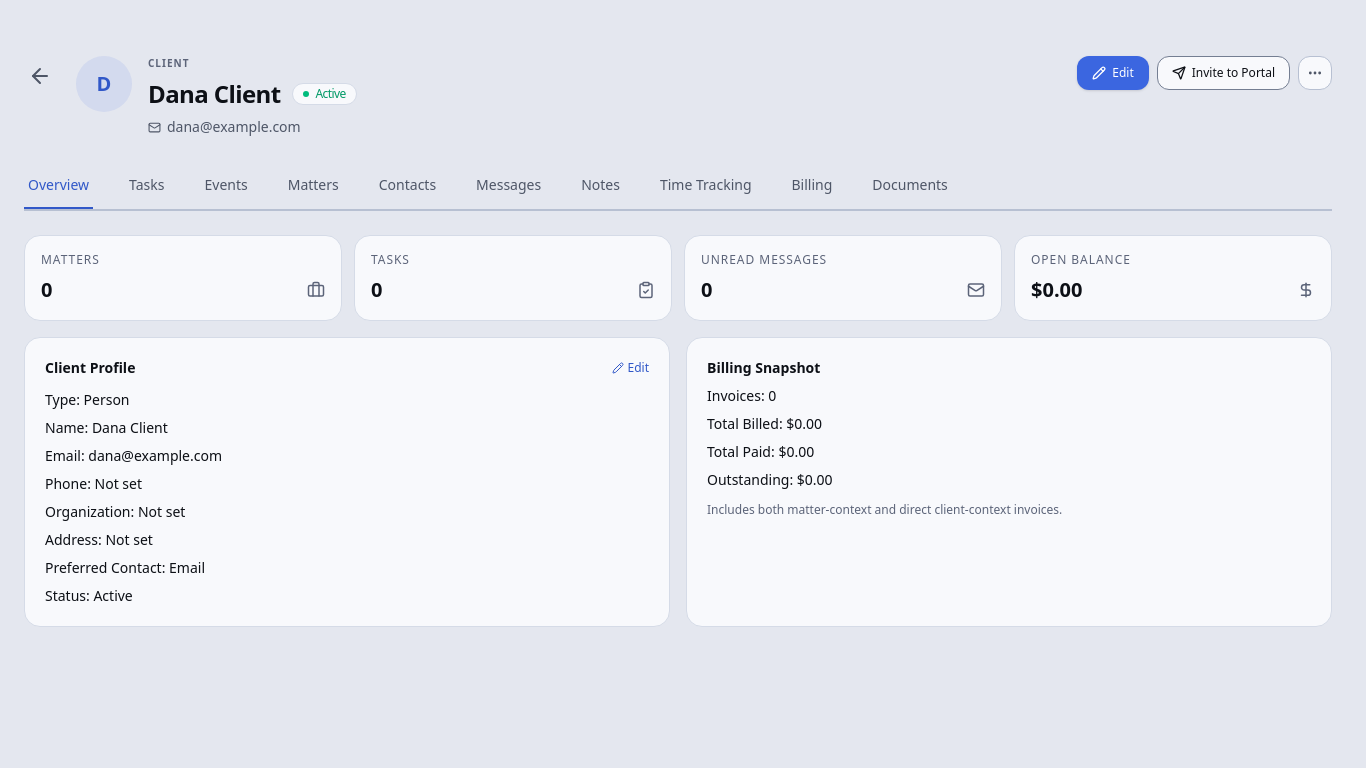
Test: portal invitation › sends the invite to the trimmed client email and confirms a connected client
The width and height of the screenshot is (1366, 768).
Expected: the heading "Dana Client Active" is shown, [148, 77, 357, 110]
Click the button "Invite to Portal": click(1223, 73) [1157, 56, 1290, 90]
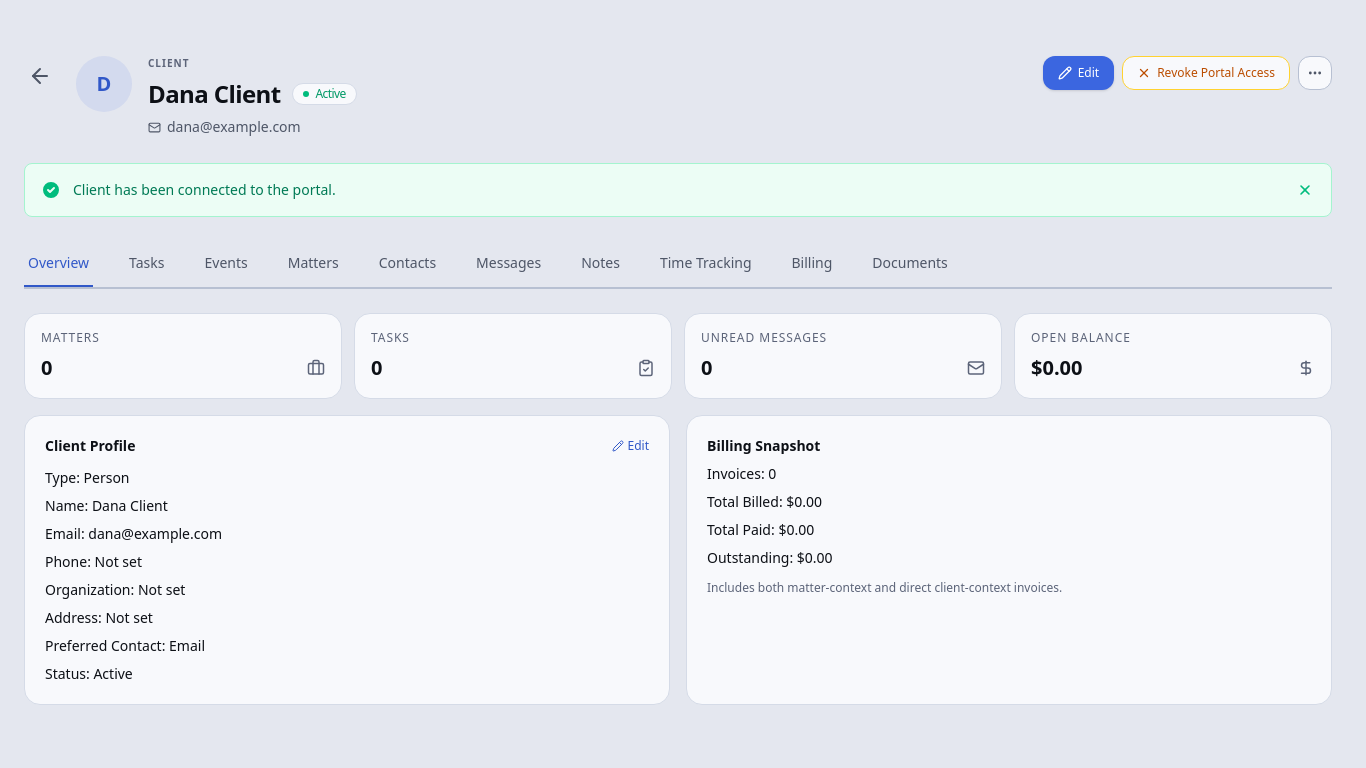
Now the text "Client has been connected to the portal." is shown, box [73, 180, 336, 199]
Now the button "Revoke Portal Access" is shown, box [1122, 56, 1290, 90]
Now the button "Invite to Portal" is gone
